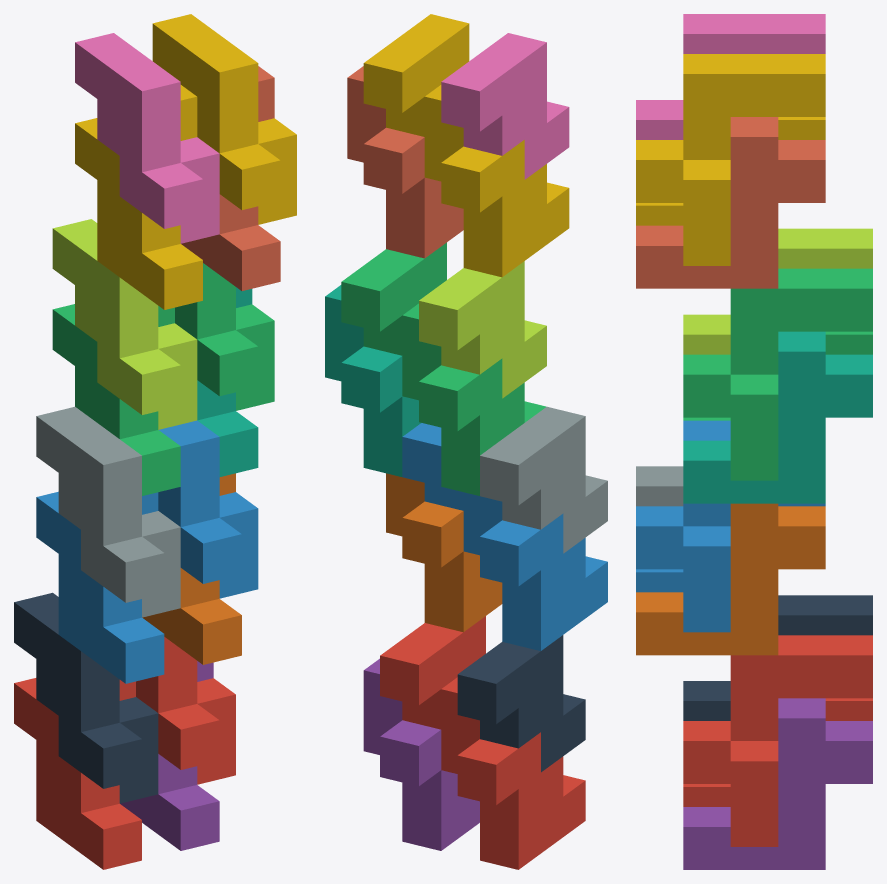
Rendered from tiling.obj.
3 views of the same model, side by side, from view 1: azimuth 30°, elevation 25°; view 2: azimuth 150°, elevation 25°; view 3: azimuth 270°, elevation 25° (orthographic). The views are drawn at different scales.
Parts seen in each view (by area): view 1: copy_2_domain_4, copy_2_domain_2, copy_2_domain_8, copy_2_domain_3, copy_2_domain_1, copy_1_domain_4, copy_2_domain_6, copy_1_domain_2, copy_1_domain_1, copy_2_domain_5, copy_2_domain_7, copy_1_domain_3 (+4 smaller); view 2: copy_1_domain_4, copy_1_domain_1, copy_1_domain_2, copy_2_domain_4, copy_2_domain_2, copy_1_domain_3, copy_2_domain_1, copy_2_domain_3, copy_1_domain_5, copy_1_domain_8, copy_1_domain_6, copy_1_domain_7 (+4 smaller); view 3: copy_2_domain_8, copy_2_domain_7, copy_2_domain_5, copy_1_domain_8, copy_1_domain_7, copy_1_domain_5, copy_1_domain_6, copy_2_domain_6, copy_2_domain_4, copy_2_domain_3, copy_2_domain_1, copy_1_domain_1 (+4 smaller).
Part boxes in pixels (x1,y1,x2,y2): copy_2_domain_4: [75, 33, 219, 243]; copy_2_domain_2: [36, 406, 180, 617]; copy_2_domain_8: [152, 14, 296, 224]; copy_2_domain_3: [52, 219, 197, 429]; copy_2_domain_1: [14, 592, 158, 803]; copy_1_domain_4: [75, 85, 202, 309]; copy_2_domain_6: [158, 420, 258, 598]; copy_1_domain_2: [36, 491, 164, 683]; copy_1_domain_1: [14, 678, 141, 869]; copy_2_domain_5: [136, 637, 235, 784]; copy_2_domain_7: [175, 263, 274, 410]; copy_1_domain_3: [52, 304, 180, 495]; copy_1_domain_4: [424, 85, 569, 277]; copy_1_domain_1: [441, 677, 585, 869]; copy_1_domain_2: [463, 492, 607, 650]; copy_2_domain_4: [441, 33, 569, 179]; copy_2_domain_2: [480, 406, 607, 553]; copy_1_domain_3: [402, 303, 546, 495]; copy_2_domain_1: [457, 635, 585, 772]; copy_2_domain_3: [419, 261, 546, 398]; copy_1_domain_5: [363, 658, 479, 850]; copy_1_domain_8: [347, 66, 463, 258]; copy_1_domain_6: [386, 473, 502, 632]; copy_1_domain_7: [325, 285, 421, 476]; copy_2_domain_8: [636, 54, 825, 265]; copy_2_domain_7: [683, 268, 872, 480]; copy_2_domain_5: [683, 635, 872, 846]; copy_1_domain_8: [636, 117, 825, 288]; copy_1_domain_7: [683, 331, 872, 503]; copy_1_domain_5: [683, 698, 872, 869]; copy_1_domain_6: [636, 503, 825, 655]; copy_2_domain_6: [636, 420, 730, 632]; copy_2_domain_4: [636, 14, 825, 139]; copy_2_domain_3: [683, 228, 872, 354]; copy_2_domain_1: [683, 595, 872, 720]; copy_1_domain_1: [683, 698, 872, 806].
Size of the model in its own units: 5 by 19 by 5.
